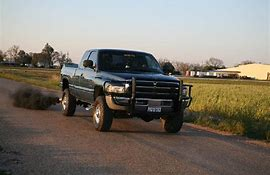smoke: (8, 83, 60, 110)
